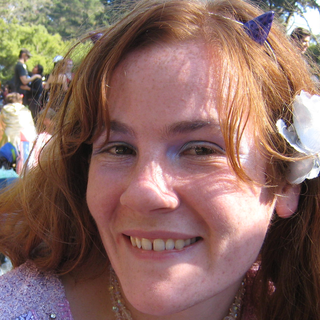eye: (172, 139, 223, 163), (96, 139, 140, 163)
